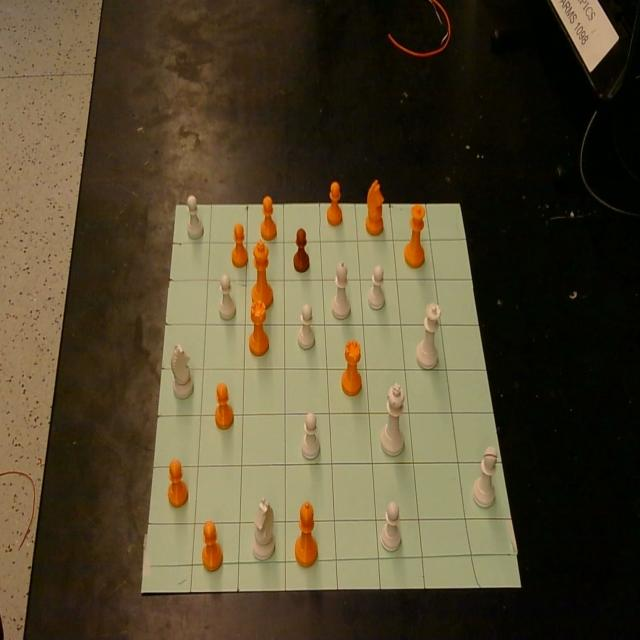orange_bishop: (294, 502, 318, 567)
orange_king: (252, 239, 274, 310)
orange_knight: (365, 179, 385, 236)
orange_pawn: (202, 520, 223, 571), (168, 459, 188, 508), (214, 381, 233, 430), (260, 194, 277, 241), (293, 229, 310, 273), (232, 222, 248, 267), (327, 181, 342, 225)
orange_queen: (404, 203, 426, 268)
orange_rook: (249, 296, 269, 356), (342, 338, 362, 395)
white_bishop: (332, 262, 351, 320)
white_king: (380, 382, 406, 455)
white_knight: (252, 498, 275, 560), (170, 343, 193, 399)
white_pawn: (472, 447, 497, 507), (380, 500, 402, 552), (300, 410, 320, 460), (218, 274, 236, 320), (186, 195, 204, 240), (367, 265, 385, 310), (298, 304, 314, 349)
white_queen: (416, 302, 441, 369)
